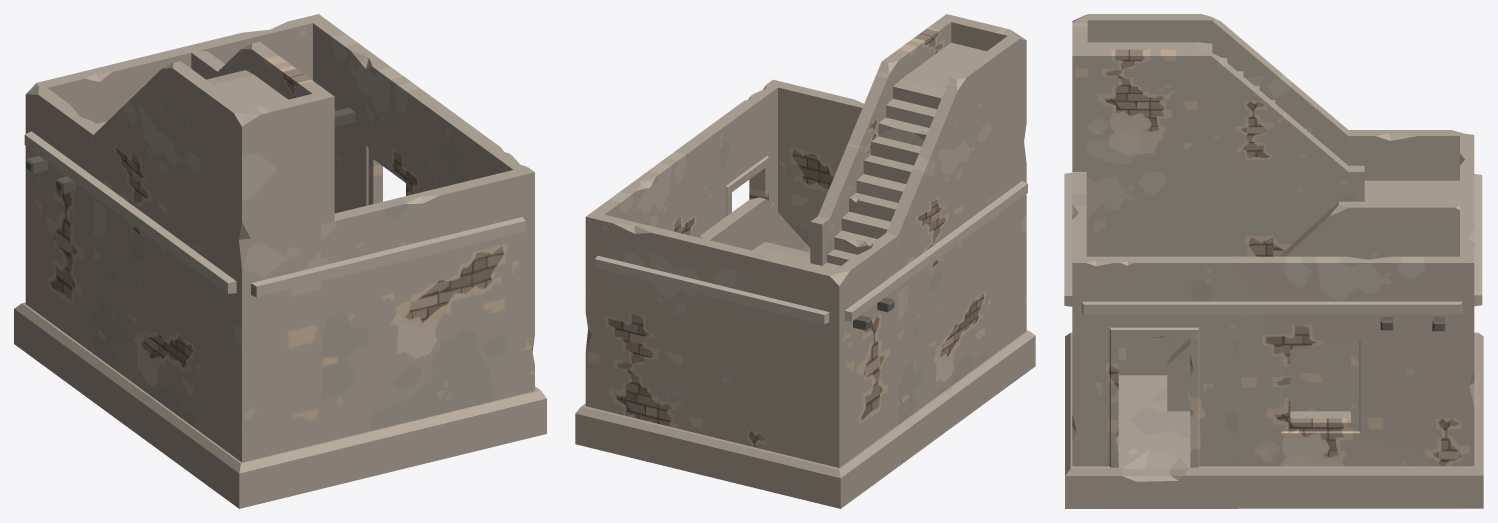
Rendered from SM_Bld_Village_House_Stairs_01.fbx.
3 views of the same model, side by side, from view 1: azimuth 30°, elevation 25°; view 2: azimuth 150°, elevation 25°; view 3: azimuth 270°, elevation 25° (orthographic). The views are drawn at different scales.
Parts seen in each view (by area): view 1: SM_Bld_Village_House_Stairs_01; view 2: SM_Bld_Village_House_Stairs_01; view 3: SM_Bld_Village_House_Stairs_01.
Part boxes in pixels (bbox=[...]): SM_Bld_Village_House_Stairs_01: bbox=[14, 14, 546, 508]; SM_Bld_Village_House_Stairs_01: bbox=[575, 14, 1035, 508]; SM_Bld_Village_House_Stairs_01: bbox=[1064, 14, 1483, 508].
Bounding box in the file's own units: 592 × 677 × 718.
